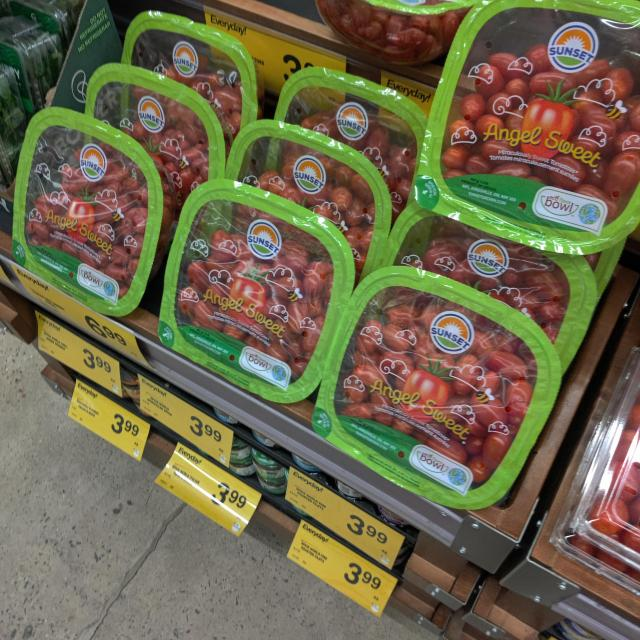Tomatoes: (325, 273, 568, 516), (421, 0, 640, 252), (169, 186, 357, 403), (11, 104, 162, 318)
